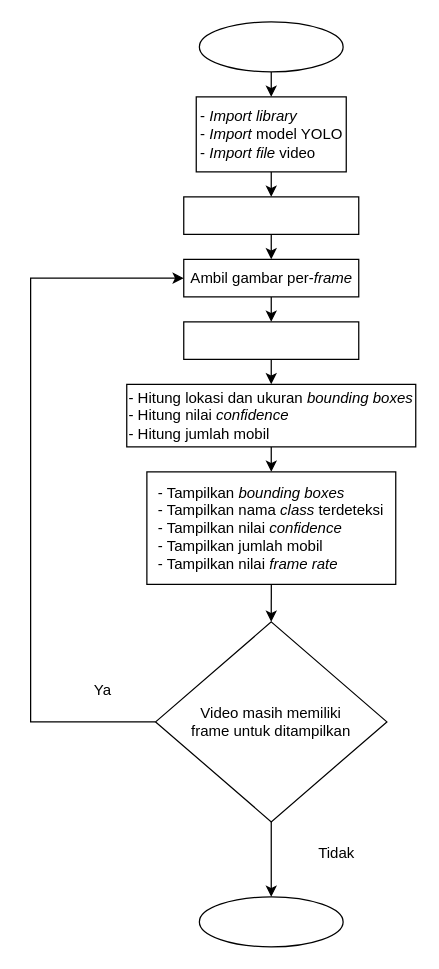
The diagram is 439 pixels wide and 969 high, and some of its shapes have lost their labels. Each missing label, with the centre of its shape:
Deteksi class: pixel 270 340
Mengatur kualitas video: pixel 270 215
Start: pixel 270 46
Stop: pixel 270 921
